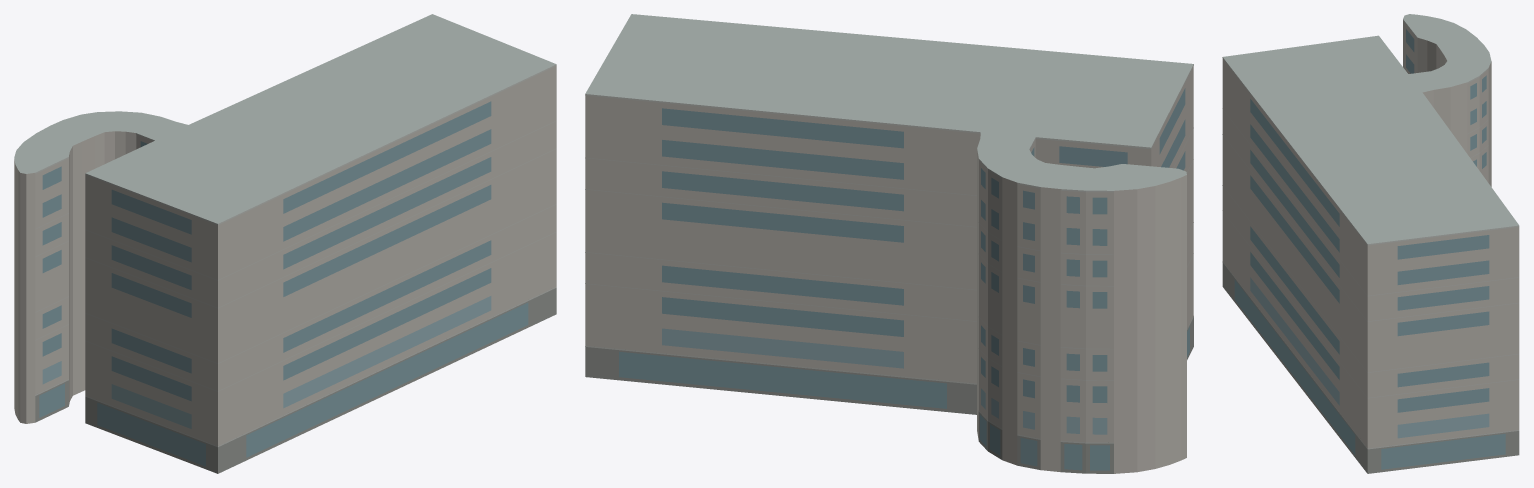
The model's file is survey-upis-32754815.glb.
3 views of the same model, side by side, from view 1: azimuth 30°, elevation 25°; view 2: azimuth 150°, elevation 25°; view 3: azimuth 270°, elevation 25° (orthographic). The views are drawn at different scales.
Visible parts, largest first — view 1: survey-upis-32754815.tmp; view 2: survey-upis-32754815.tmp; view 3: survey-upis-32754815.tmp.
Part boxes in pixels (x1,y1,x2,y2): survey-upis-32754815.tmp: (14, 14, 556, 473); survey-upis-32754815.tmp: (585, 14, 1193, 473); survey-upis-32754815.tmp: (1222, 14, 1519, 473).
Size of the model in its own units: 92.37 by 42.97 by 50.35.
